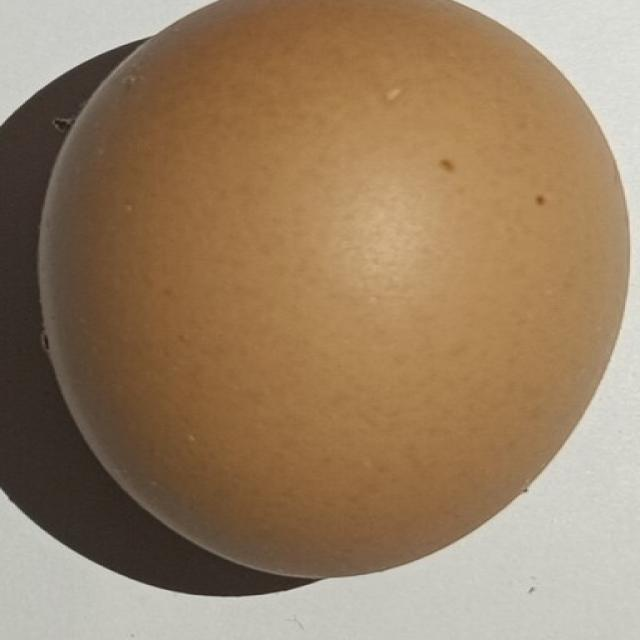fresh: (25, 0, 640, 588)
